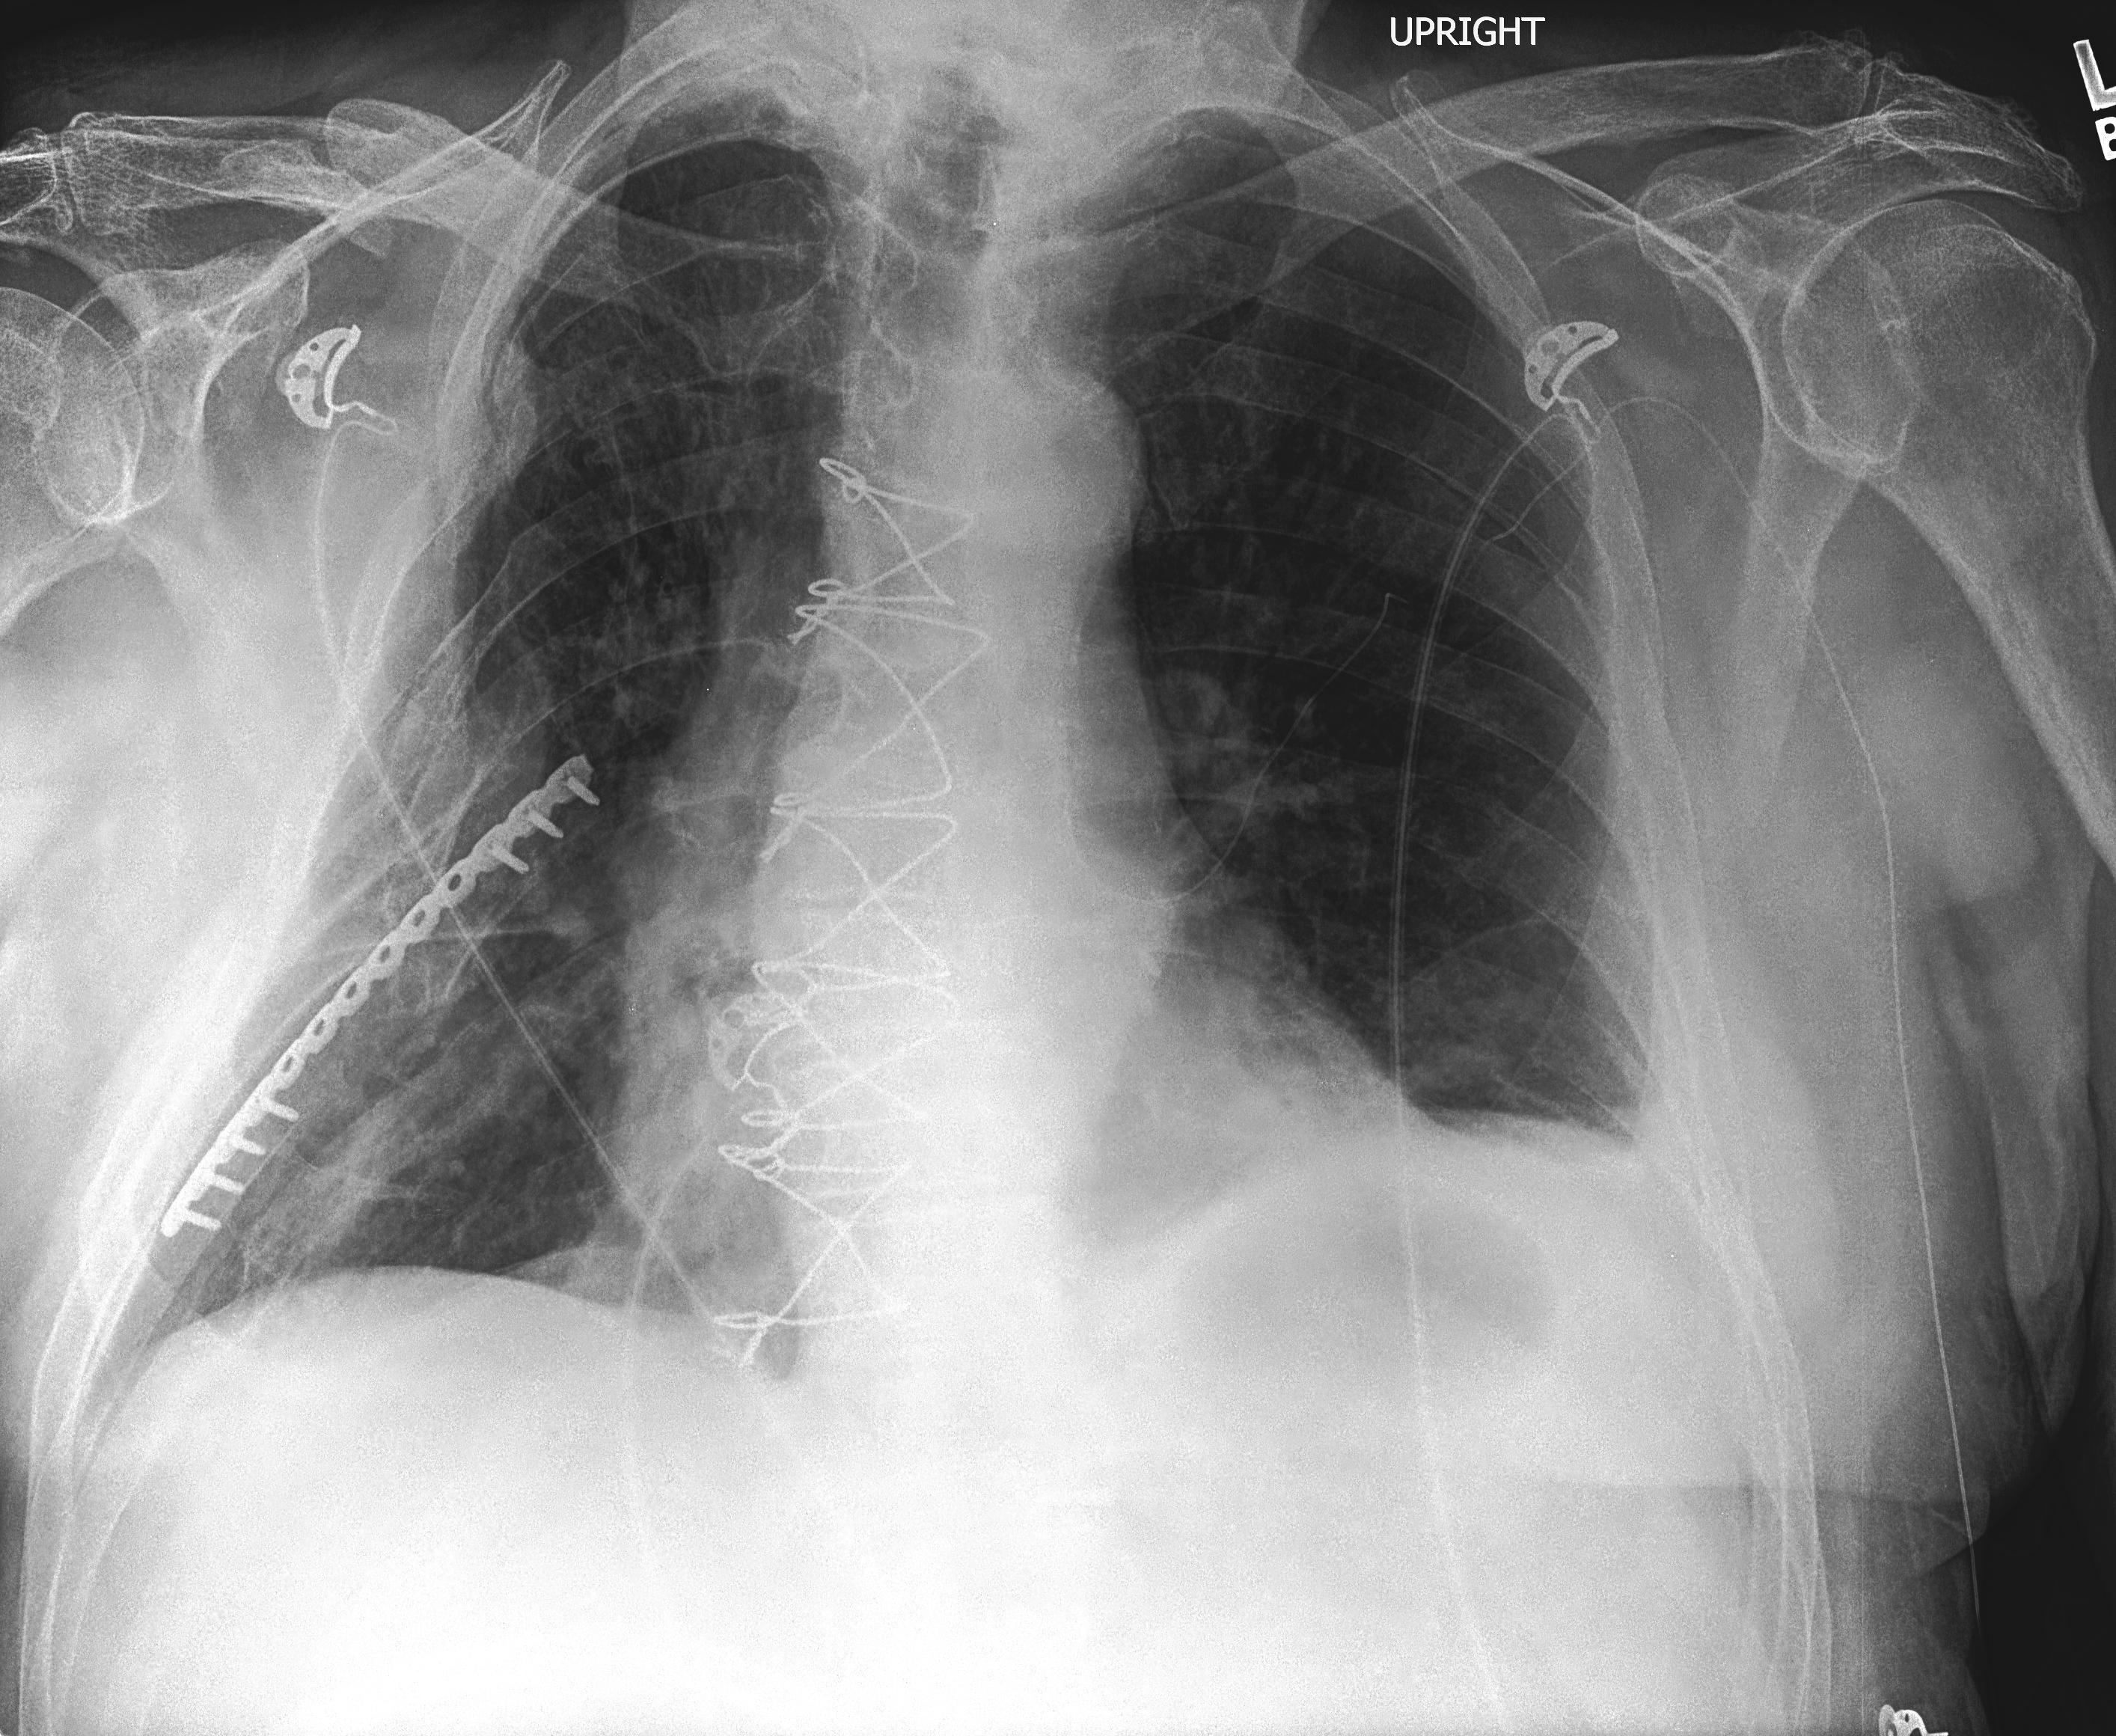Pleural Effusion: (1374, 1091, 1798, 1562)
